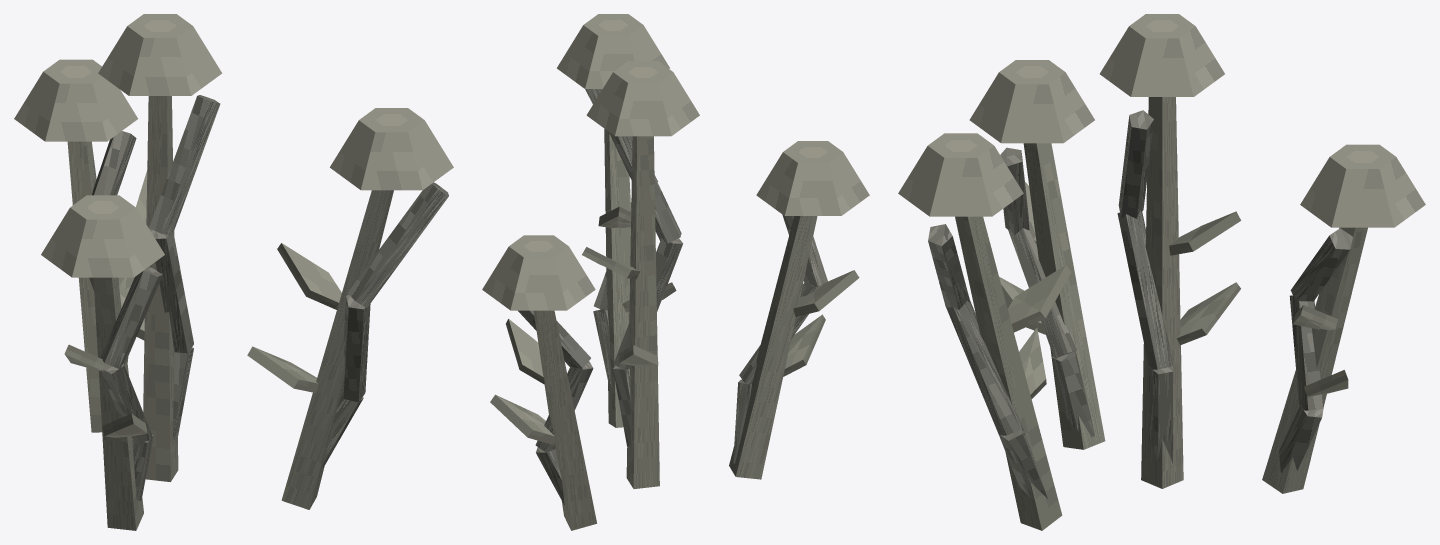
The model's file is f_flower_fungal.glb.
The picture shows the model from 3 angles, left to right: view 1: azimuth 30°, elevation 25°; view 2: azimuth 150°, elevation 25°; view 3: azimuth 270°, elevation 25°; orthographic projection. The views are drawn at different scales.
Parts seen in each view (by area): view 1: block_fungal-tendril-3 (×4), block_stem-0, block_stem-3, block_flower-head-3, block_flower-head-1, block_flower-head-0, block_flower-head-2, block_fungal-tendril-2 (×3), block_stem-1, block_pointed-leaf (×4), block_stem-2, block_fungal-tendril-1 (×3); view 2: block_stem-0, block_stem-1, block_pointed-leaf (×7), block_flower-head-0, block_flower-head-2, block_flower-head-1, block_stem-2, block_flower-head-3, block_stem-3, block_fungal-tendril-3 (×3), block_fungal-tendril-1 (×4), block_fungal-tendril-2 (×3); view 3: block_fungal-tendril-2 (×4), block_stem-0, block_stem-3, block_fungal-tendril-3 (×4), block_stem-1, block_pointed-leaf (×6), block_flower-head-1, block_flower-head-3, block_flower-head-2, block_flower-head-0, block_fungal-tendril-1 (×4), block_stem-2.
Boxes of the visible parts, x1,y1,x2,y2 form: block_fungal-tendril-3 (×4): [92, 95, 448, 368]; block_stem-0: [143, 96, 178, 481]; block_stem-3: [281, 190, 393, 509]; block_flower-head-3: [330, 108, 453, 190]; block_flower-head-1: [41, 195, 164, 277]; block_flower-head-0: [98, 14, 222, 95]; block_flower-head-2: [14, 59, 137, 141]; block_fungal-tendril-2 (×3): [101, 228, 370, 446]; block_stem-1: [93, 277, 143, 530]; block_pointed-leaf (×4): [64, 243, 341, 437]; block_stem-2: [67, 141, 102, 432]; block_fungal-tendril-1 (×3): [132, 347, 363, 500]; block_stem-0: [626, 136, 659, 488]; block_stem-1: [729, 216, 817, 479]; block_pointed-leaf (×7): [490, 206, 859, 445]; block_flower-head-0: [586, 61, 699, 136]; block_flower-head-2: [482, 235, 595, 310]; block_flower-head-1: [756, 141, 869, 215]; block_stem-2: [533, 310, 596, 530]; block_flower-head-3: [557, 14, 669, 88]; block_stem-3: [604, 129, 631, 427]; block_fungal-tendril-3 (×3): [518, 132, 827, 368]; block_fungal-tendril-1 (×4): [536, 309, 751, 505]; block_fungal-tendril-2 (×3): [535, 237, 817, 452]; block_fungal-tendril-2 (×4): [945, 210, 1323, 435]; block_stem-0: [1141, 97, 1183, 488]; block_stem-3: [955, 216, 1062, 530]; block_fungal-tendril-3 (×4): [928, 110, 1352, 309]; block_stem-1: [1023, 143, 1105, 449]; block_pointed-leaf (×6): [1007, 211, 1348, 398]; block_flower-head-1: [969, 60, 1094, 143]; block_flower-head-3: [898, 133, 1023, 216]; block_flower-head-2: [1300, 144, 1425, 227]; block_flower-head-0: [1100, 14, 1224, 96]; block_fungal-tendril-1 (×4): [999, 351, 1323, 498]; block_stem-2: [1262, 227, 1367, 493].
Size of the model in its own units: 0.4575 by 0.5709 by 0.5956.
Materials: 1 (1 with a texture image).
